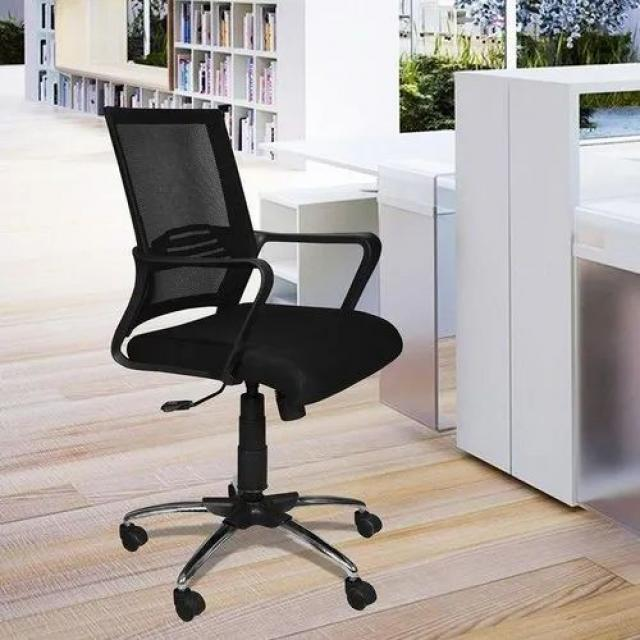chair: (98, 101, 402, 618)
